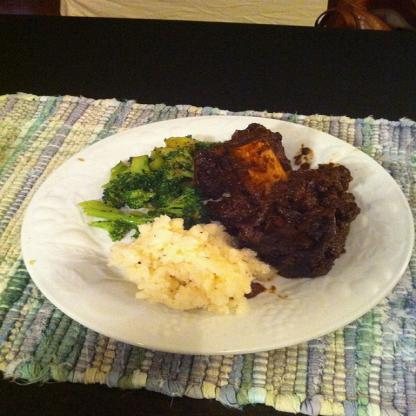handbag: (315, 0, 393, 32)
